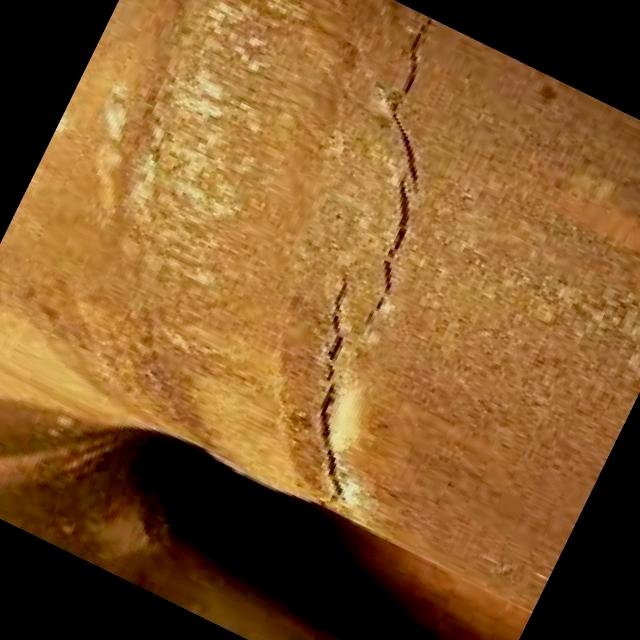defect: (361, 13, 445, 341), (313, 258, 357, 512)
